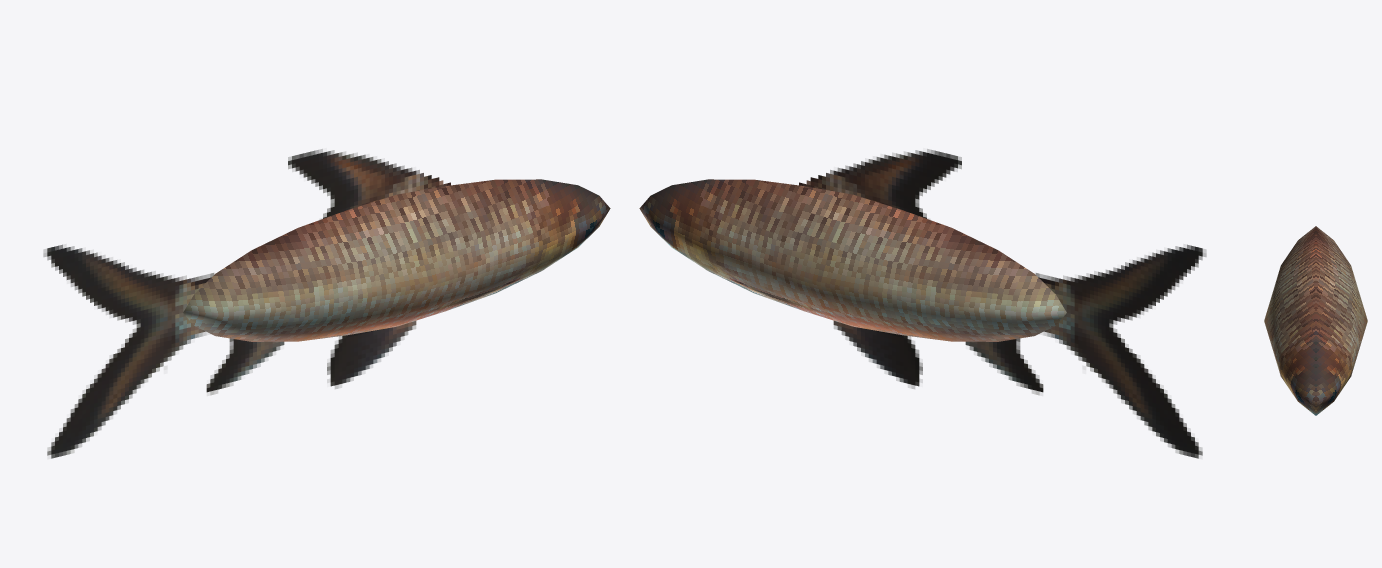
File: fish!.glb
3 renders of one model, left to right at view 1: azimuth 30°, elevation 25°; view 2: azimuth 150°, elevation 25°; view 3: azimuth 270°, elevation 25°, orthographic. The views are drawn at different scales.
Parts seen in each view (by area): view 1: body, tail, fins; view 2: body, tail, fins; view 3: body.
Boxes of the visible parts, box(x1,y1,x2,y2) form: body: box(183, 179, 610, 341); tail: box(43, 244, 205, 458); fins: box(205, 149, 450, 394); body: box(639, 179, 1066, 341); tail: box(1044, 244, 1206, 458); fins: box(799, 149, 1044, 394); body: box(1264, 226, 1367, 415).
Bounding box in the file's own units: 4.68 × 3 × 0.8876.
2 materials, 2 textured.
